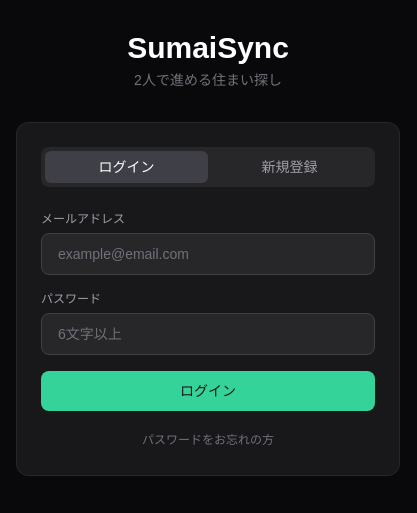
LoginPage › 「新規登録」タブをクリックすると表示名フィールドが表示される
Step 1. Click the button "新規登録" → (290, 167), box [208,151,371,183]
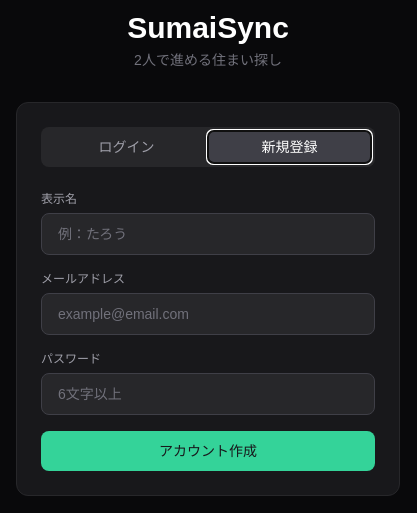
Expected: the button with test id "submit-button" is shown, [41,431,375,471]
Expected: the field with placeholder "例：たろう" is shown, [41,213,375,255]
